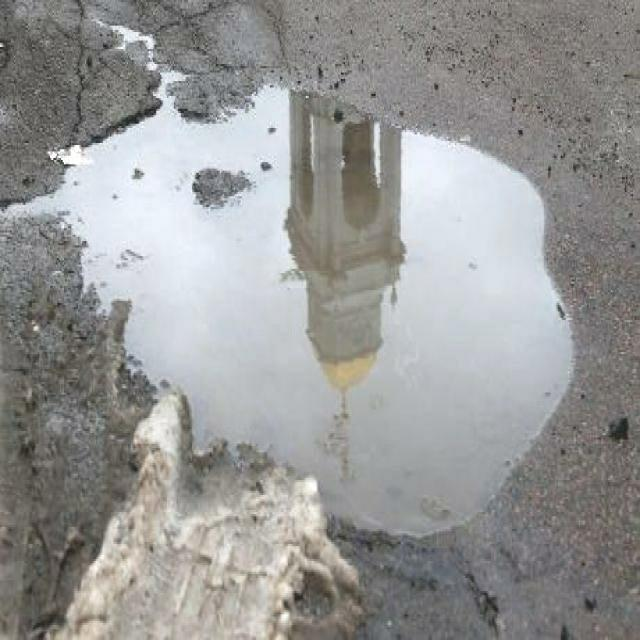Pothole: (22, 70, 576, 538)
